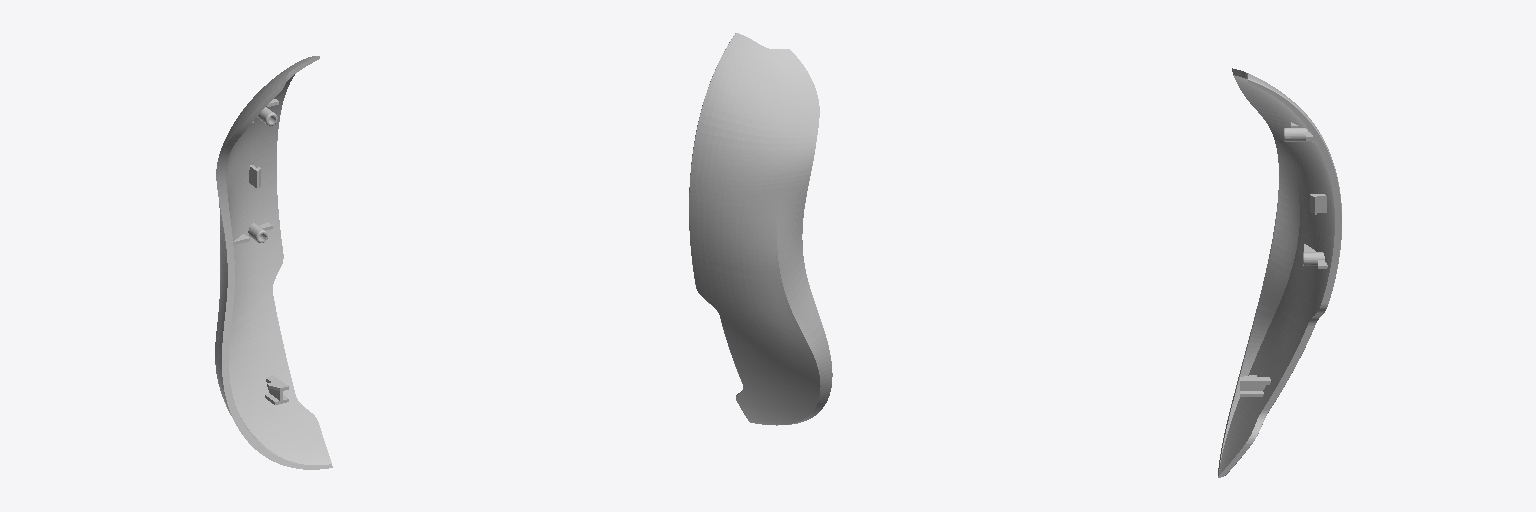
File: mouse_(3).obj
The picture shows the model from 3 angles: view 1: azimuth 30°, elevation 25°; view 2: azimuth 150°, elevation 25°; view 3: azimuth 270°, elevation 25°; orthographic projection.
Parts seen in each view (by area): view 1: Cap_Left; view 2: Cap_Left; view 3: Cap_Left.
Part boxes in pixels (left/top/right/bottom): Cap_Left: left=215, top=56, right=332, bottom=469; Cap_Left: left=689, top=33, right=832, bottom=425; Cap_Left: left=1218, top=68, right=1341, bottom=477.
Size of the model in its own units: 3.21 by 12.76 by 3.6.